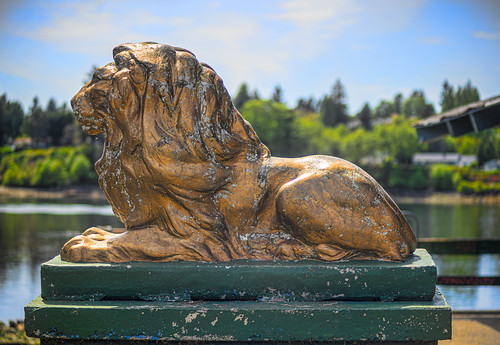statue: (35, 38, 450, 331)
